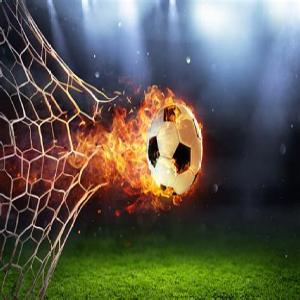Football: (147, 100, 199, 193)
